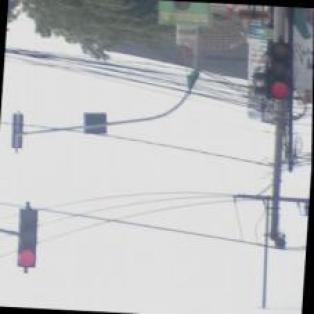Semoforo Rojo: (267, 43, 293, 98), (16, 208, 38, 270)
